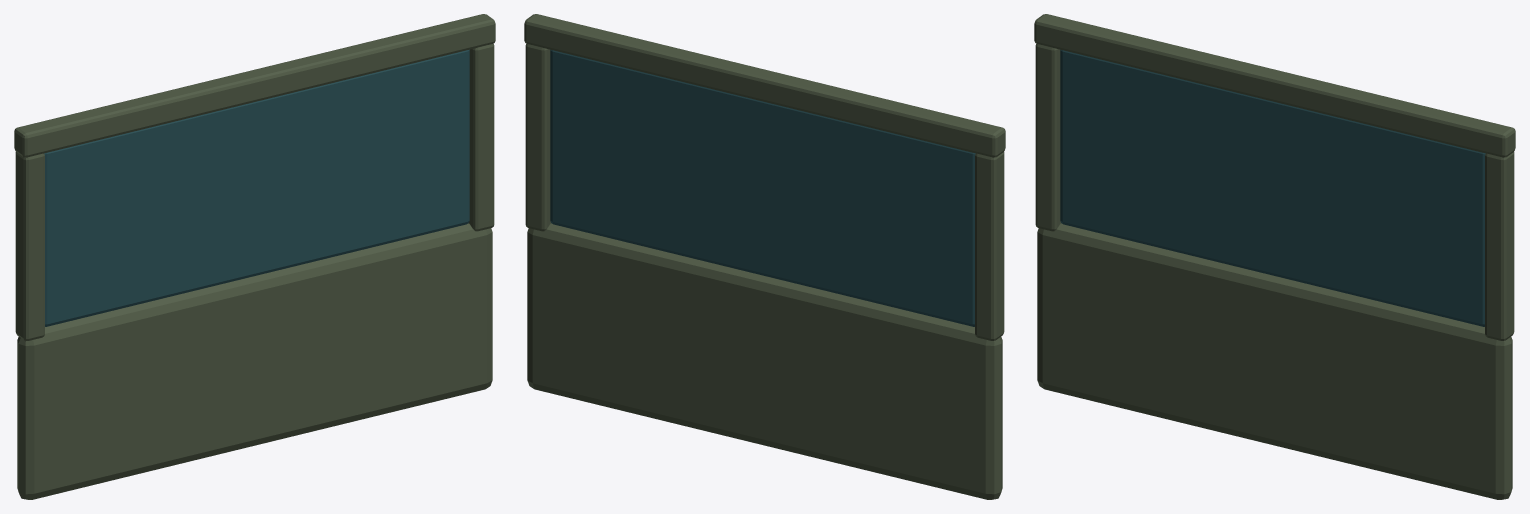
File: TransportDoor.fbx
3 renders of one model, left to right at view 1: azimuth 30°, elevation 25°; view 2: azimuth 150°, elevation 25°; view 3: azimuth 330°, elevation 25°, orthographic.
Visible parts, largest first — view 1: TransportDoor; view 2: TransportDoor; view 3: TransportDoor.
Boxes of the visible parts, x1,y1,x2,y2 form: TransportDoor: [14, 14, 495, 499]; TransportDoor: [524, 14, 1005, 499]; TransportDoor: [1034, 14, 1515, 499].
Bounding box in the file's own units: 202 × 8.5 × 151.
